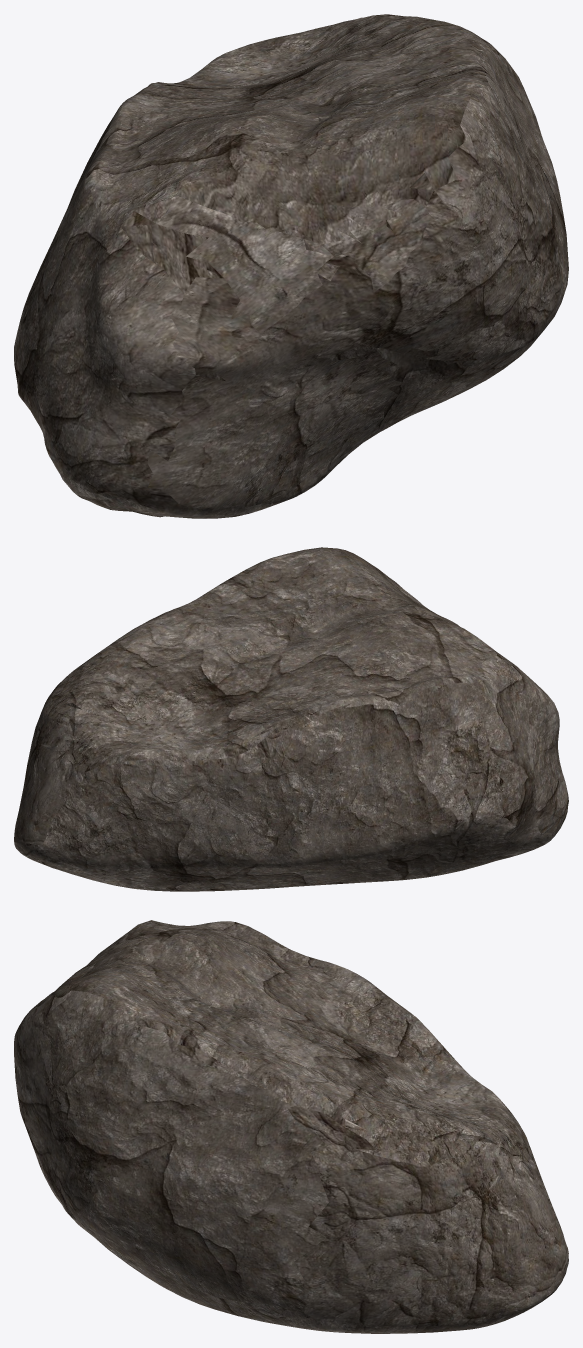
Rendered from cascajo_rock_8.glb.
The picture shows the model from 3 angles, top to bottom: view 1: azimuth 30°, elevation 25°; view 2: azimuth 150°, elevation 25°; view 3: azimuth 270°, elevation 25°; orthographic projection. The views are drawn at different scales.
Parts seen in each view (by area): view 1: rock_8; view 2: rock_8; view 3: rock_8.
Boxes of the visible parts, box(x1,y1,x2,y2) form: rock_8: box(14, 14, 568, 518); rock_8: box(14, 547, 568, 891); rock_8: box(14, 920, 568, 1333).
Bounding box in the file's own units: 1 × 0.5921 × 0.9627.
1 material, 1 textured.
